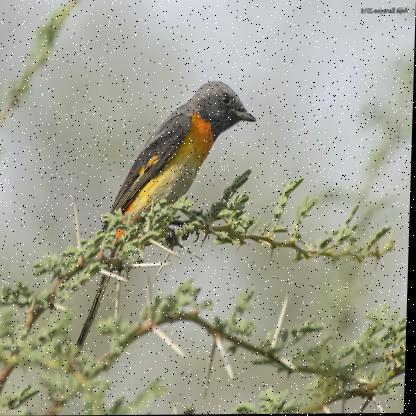Burung: (78, 80, 258, 350)
